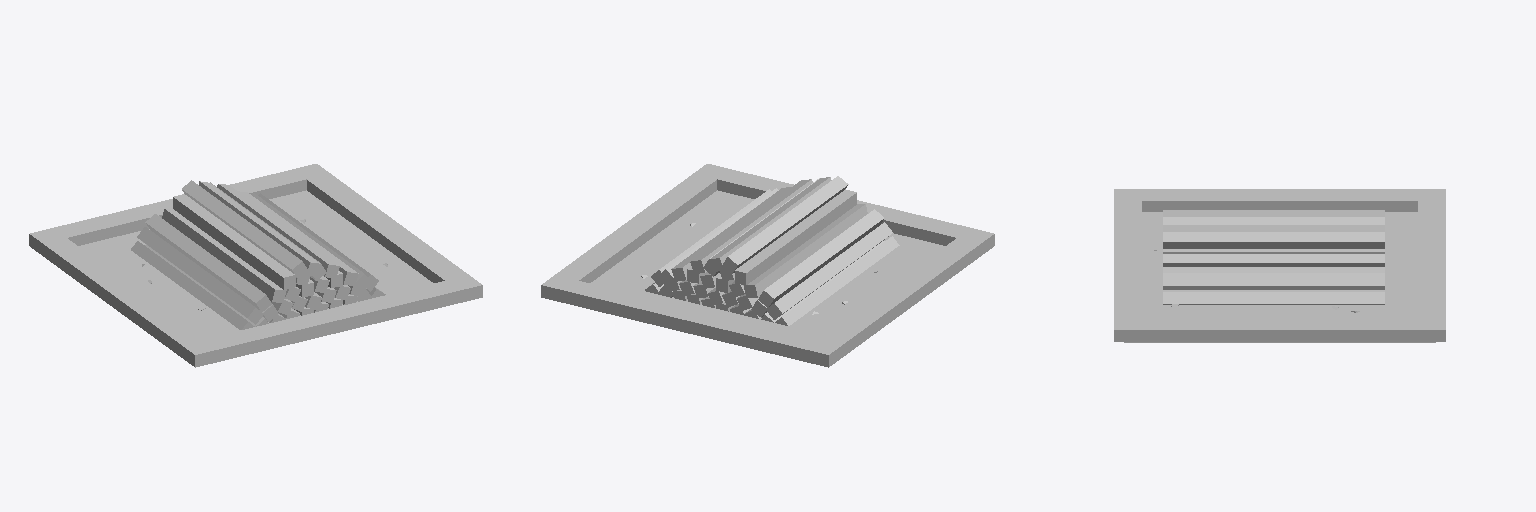
The model's file is veges1.obj.
The picture shows the model from 3 angles: view 1: azimuth 30°, elevation 25°; view 2: azimuth 150°, elevation 25°; view 3: azimuth 270°, elevation 25°; orthographic projection.
Visible parts, largest first — view 1: Box001, Plane157, Plane153, Plane142, Plane154, Plane133, Plane143, Plane132, Plane150, Plane155, Plane148, Plane141 (+1 smaller); view 2: Box001, Plane157, Plane153, Plane142, Plane154, Plane133, Plane143, Plane132, Plane150, Plane155, Plane148, Plane141 (+1 smaller); view 3: Box001, Plane157, Plane141, Plane150, Plane148, Plane123, Plane155, Plane151, Plane154, Plane149, Plane147.
Part boxes in pixels (left/top/right/bottom): Box001: left=29, top=164, right=482, bottom=367; Plane157: left=79, top=190, right=433, bottom=338; Plane153: left=173, top=194, right=295, bottom=289; Plane142: left=145, top=214, right=271, bottom=311; Plane154: left=182, top=180, right=307, bottom=278; Plane133: left=137, top=227, right=263, bottom=324; Plane143: left=162, top=209, right=286, bottom=302; Plane132: left=131, top=241, right=254, bottom=329; Plane150: left=217, top=184, right=339, bottom=277; Plane155: left=199, top=181, right=319, bottom=275; Plane148: left=238, top=191, right=358, bottom=285; Plane141: left=258, top=193, right=378, bottom=291; Box001: left=541, top=164, right=994, bottom=367; Plane157: left=590, top=190, right=944, bottom=338; Plane153: left=735, top=189, right=856, bottom=284; Plane142: left=758, top=209, right=883, bottom=307; Plane154: left=722, top=176, right=848, bottom=273; Plane133: left=766, top=222, right=892, bottom=319; Plane143: left=743, top=204, right=867, bottom=297; Plane132: left=775, top=236, right=899, bottom=325; Plane150: left=690, top=179, right=812, bottom=273; Plane155: left=710, top=177, right=831, bottom=271; Plane148: left=671, top=187, right=790, bottom=281; Plane141: left=651, top=189, right=771, bottom=286; Box001: left=1114, top=189, right=1445, bottom=342; Plane157: left=1142, top=212, right=1417, bottom=317; Plane141: left=1163, top=273, right=1384, bottom=289; Plane150: left=1163, top=232, right=1384, bottom=248; Plane148: left=1163, top=254, right=1384, bottom=266; Plane123: left=1163, top=292, right=1384, bottom=304; Plane155: left=1163, top=217, right=1384, bottom=224; Plane151: left=1163, top=225, right=1384, bottom=231; Plane154: left=1163, top=210, right=1384, bottom=216; Plane149: left=1163, top=267, right=1384, bottom=272; Plane147: left=1163, top=249, right=1384, bottom=253.
Bounding box in the file's own units: 0.744 × 0.2002 × 0.744.